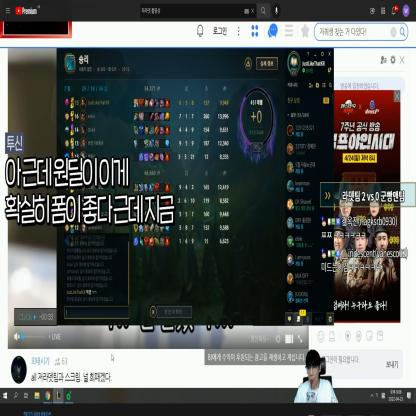streamer: (294, 350, 338, 403)
